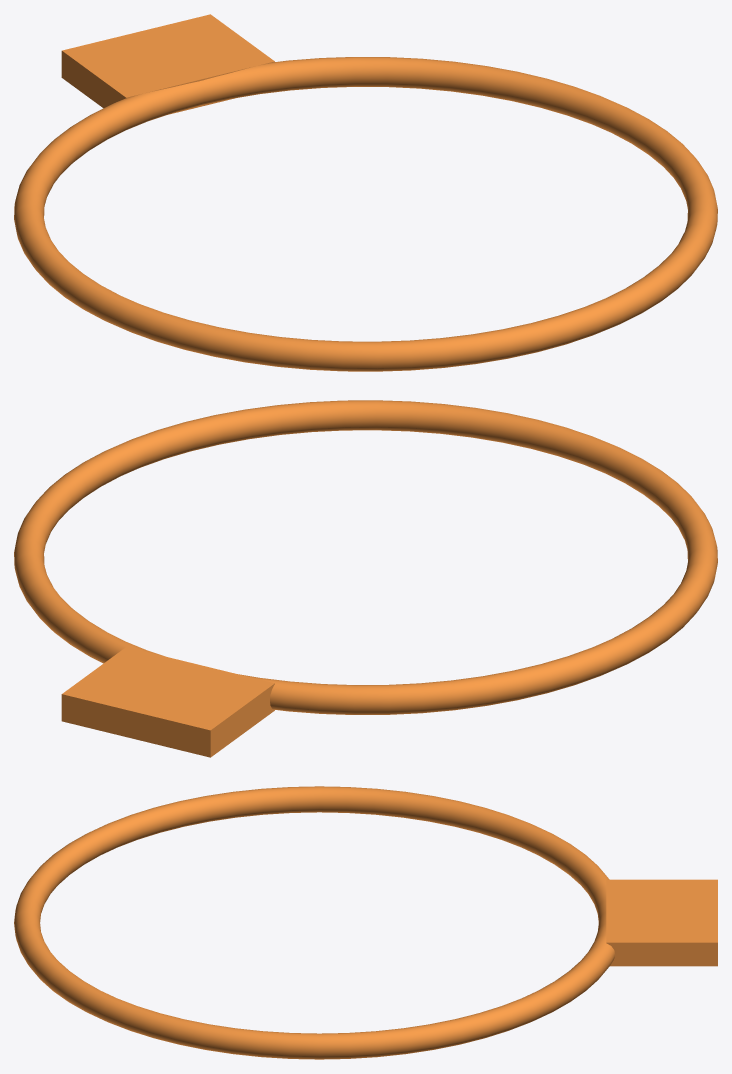
Rendered from HoopRim.glb.
The picture shows the model from 3 angles, top to bottom: view 1: azimuth 30°, elevation 25°; view 2: azimuth 150°, elevation 25°; view 3: azimuth 270°, elevation 25°; orthographic projection. The views are drawn at different scales.
Parts seen in each view (by area): view 1: HoopRim; view 2: HoopRim; view 3: HoopRim.
Part boxes in pixels (<box>): HoopRim: <box>14,14,717,371</box>; HoopRim: <box>14,400,717,757</box>; HoopRim: <box>14,786,717,1059</box>.
Size of the model in its own units: 0.328 by 0.014 by 0.378.
